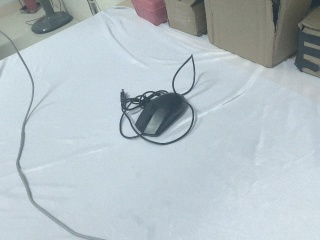box: (204, 1, 319, 68), (293, 1, 320, 83), (164, 1, 207, 38)
mouse: (135, 90, 189, 137)
